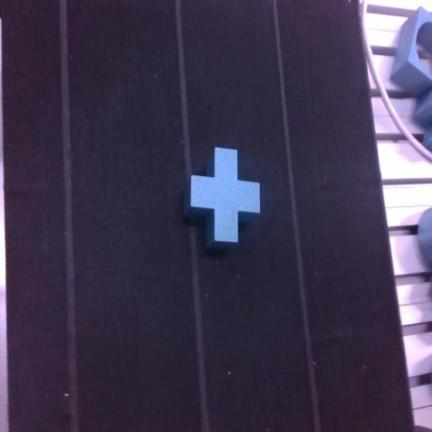cross: (187, 148, 259, 248)
